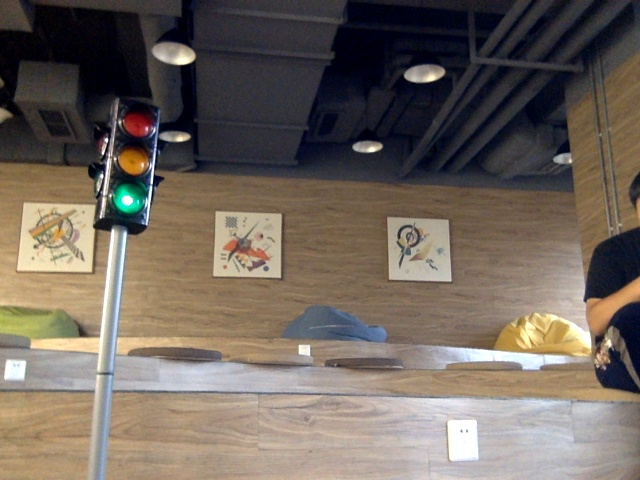green: (112, 104, 144, 216)
